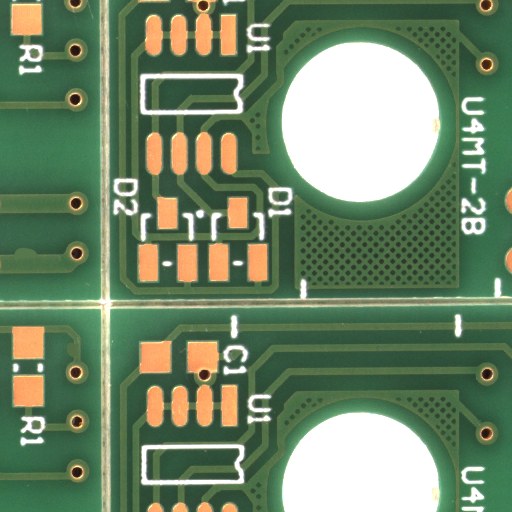Spur: (24, 253, 55, 265), (69, 349, 82, 366)
